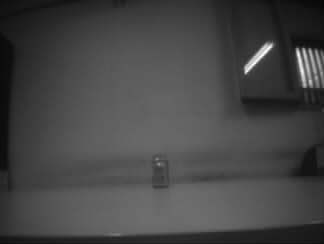Tin can: (151, 153, 170, 189)
